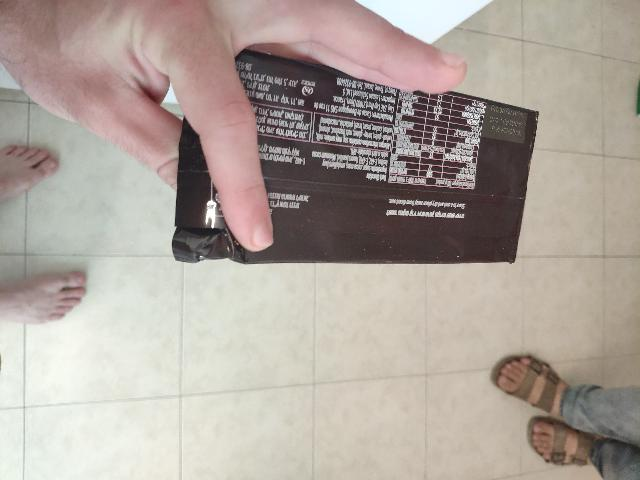chocolate: (203, 88, 429, 464)
